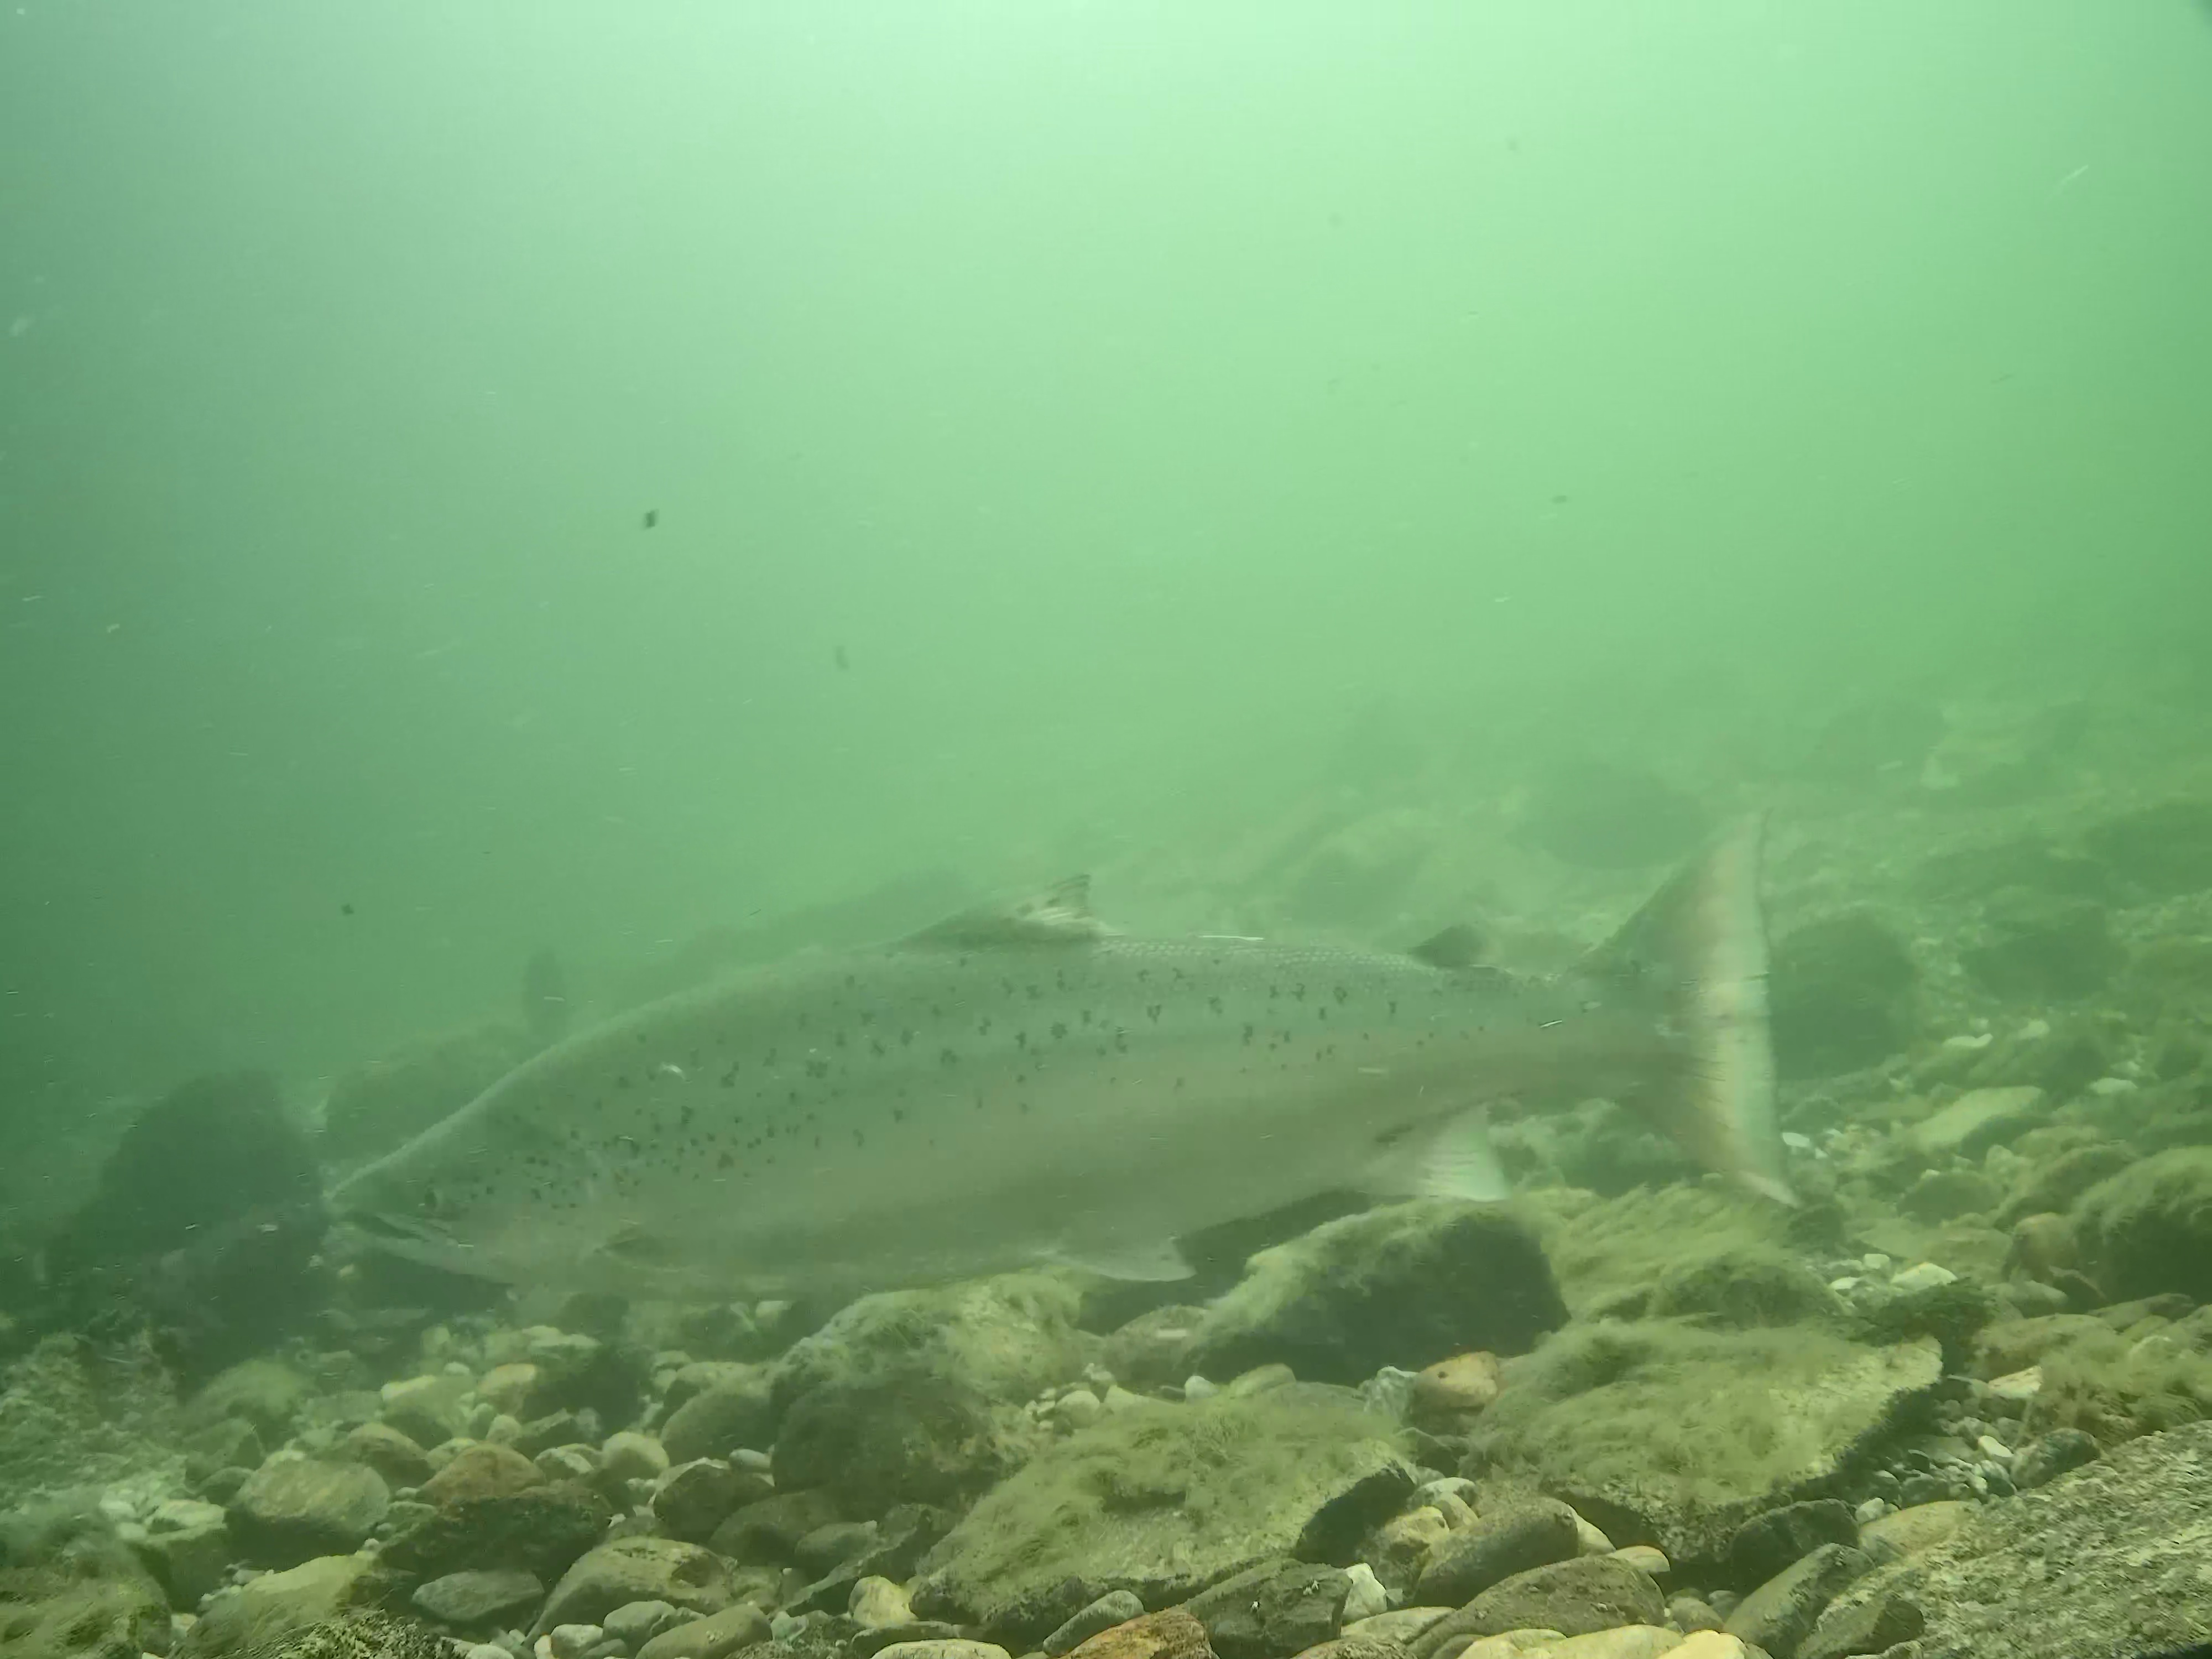salmon: (317, 807, 1803, 1307)
